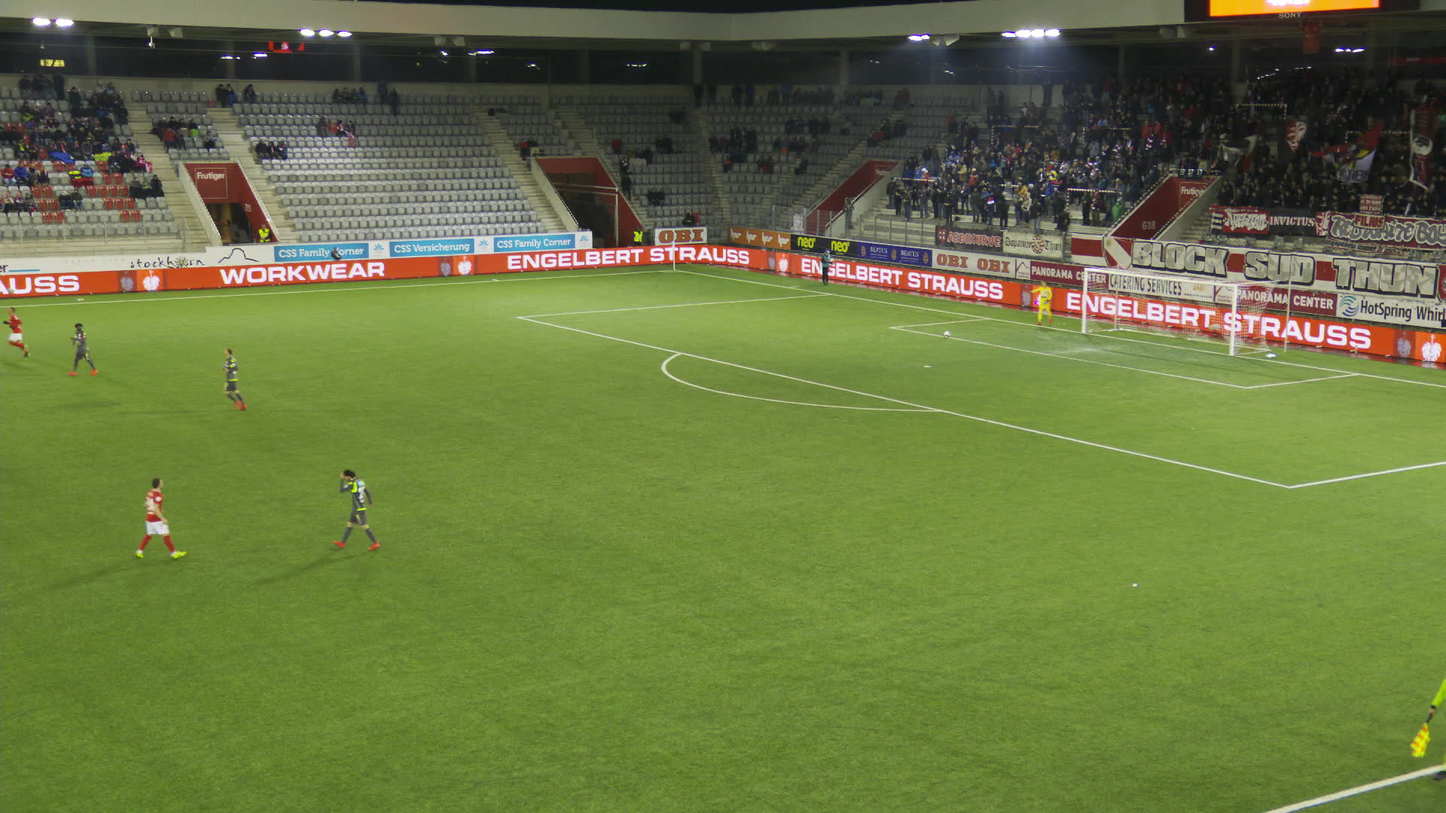ball: (943, 330, 950, 337)
player: (135, 474, 188, 560), (334, 467, 379, 552), (222, 348, 249, 411), (2, 306, 30, 358), (71, 322, 97, 376), (1032, 281, 1053, 325)
referee: (1410, 677, 1445, 778)
